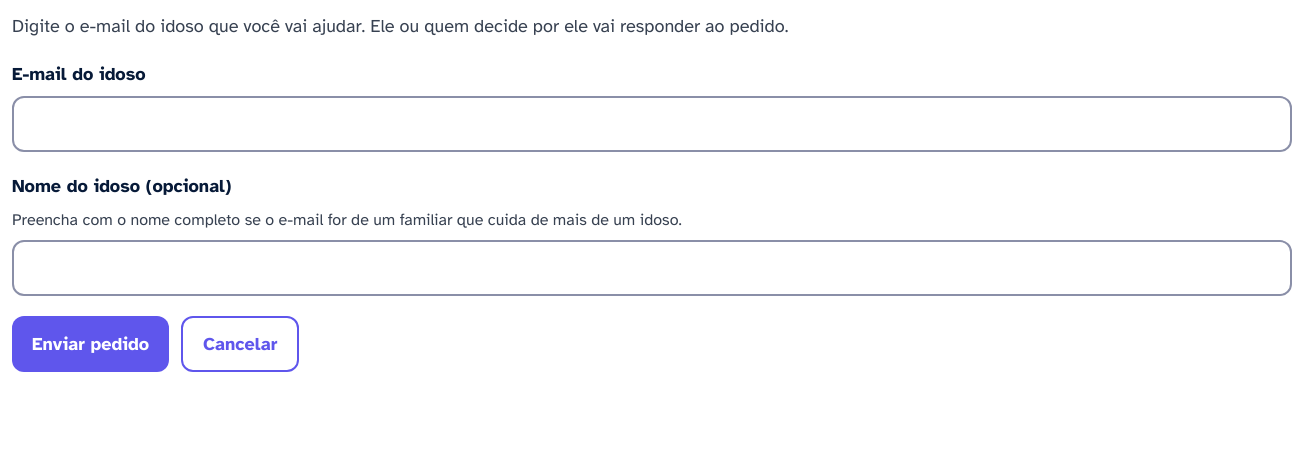
SolicitarVinculo › rede fora do ar (sem status) usa a mensagem fixa
Type "idoso.teste@exemplo.test" into the field labelled "E-mail do idoso" at (652, 124), box top-left (12, 96), bottom-right (1292, 152)
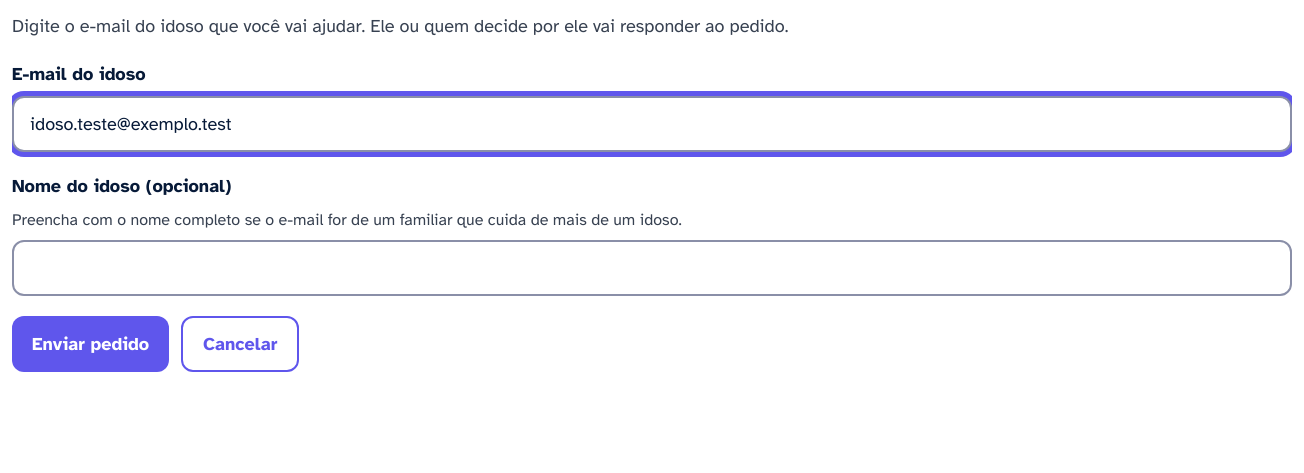
Click the button "Enviar pedido" at (90, 344), box top-left (12, 316), bottom-right (169, 372)
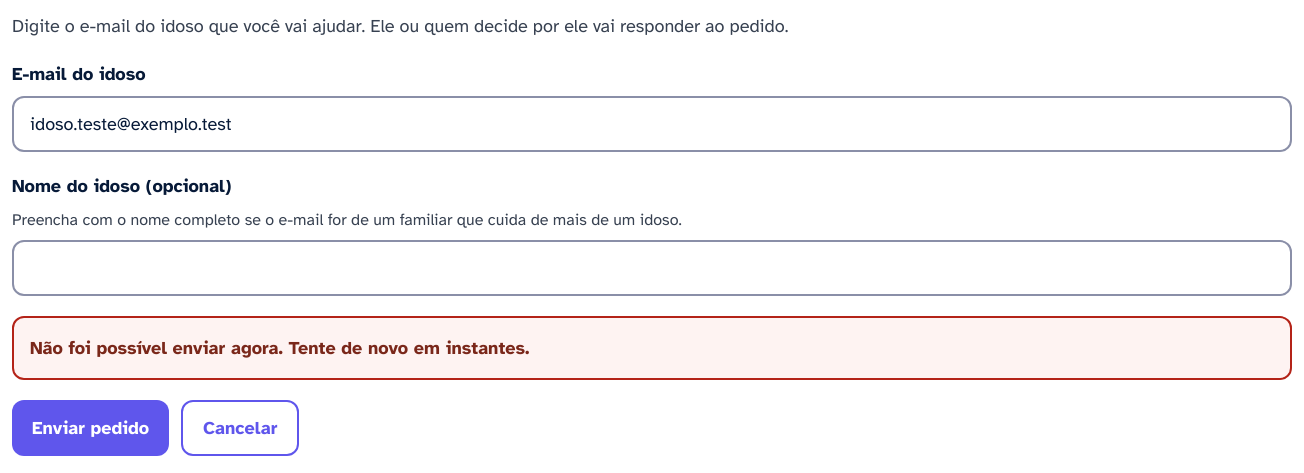
expect the message does not show "Failed to fetch": met, box top-left (12, 316), bottom-right (1292, 380)
expect the message reads "Não foi possível enviar agora. Tente de novo em instantes.": met, box top-left (30, 337), bottom-right (529, 359)
